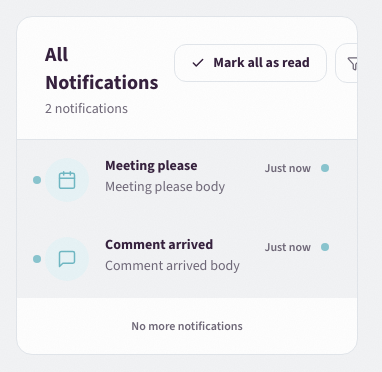
Test: NotificationsPage › filters from the header button, not only from the sidebar
What coordinates should you click on to do the following:
click the button named "Filter notifications"
I would click on:
 (355, 63)
Its box is [335,43,375,83].
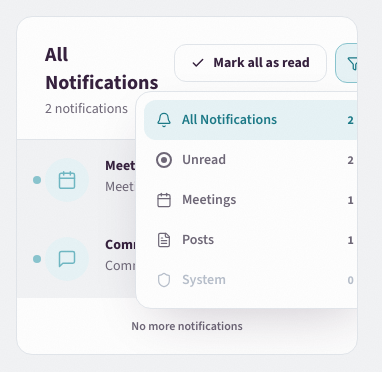
What coordinates should you click on to do the following:
click the menu item "Meetings 1"
I would click on:
 (255, 200)
Its box is [144,180,366,220].
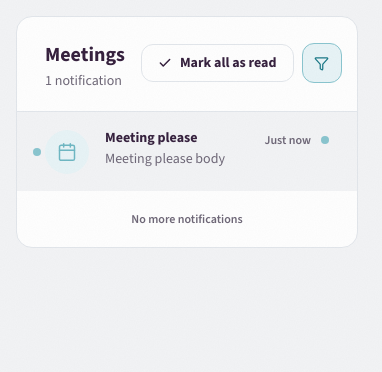
Expected: the heading reads "Meetings", [45,41,125,68]
Expected: the button "Comment arrived" is gone
Expected: the menu is gone
